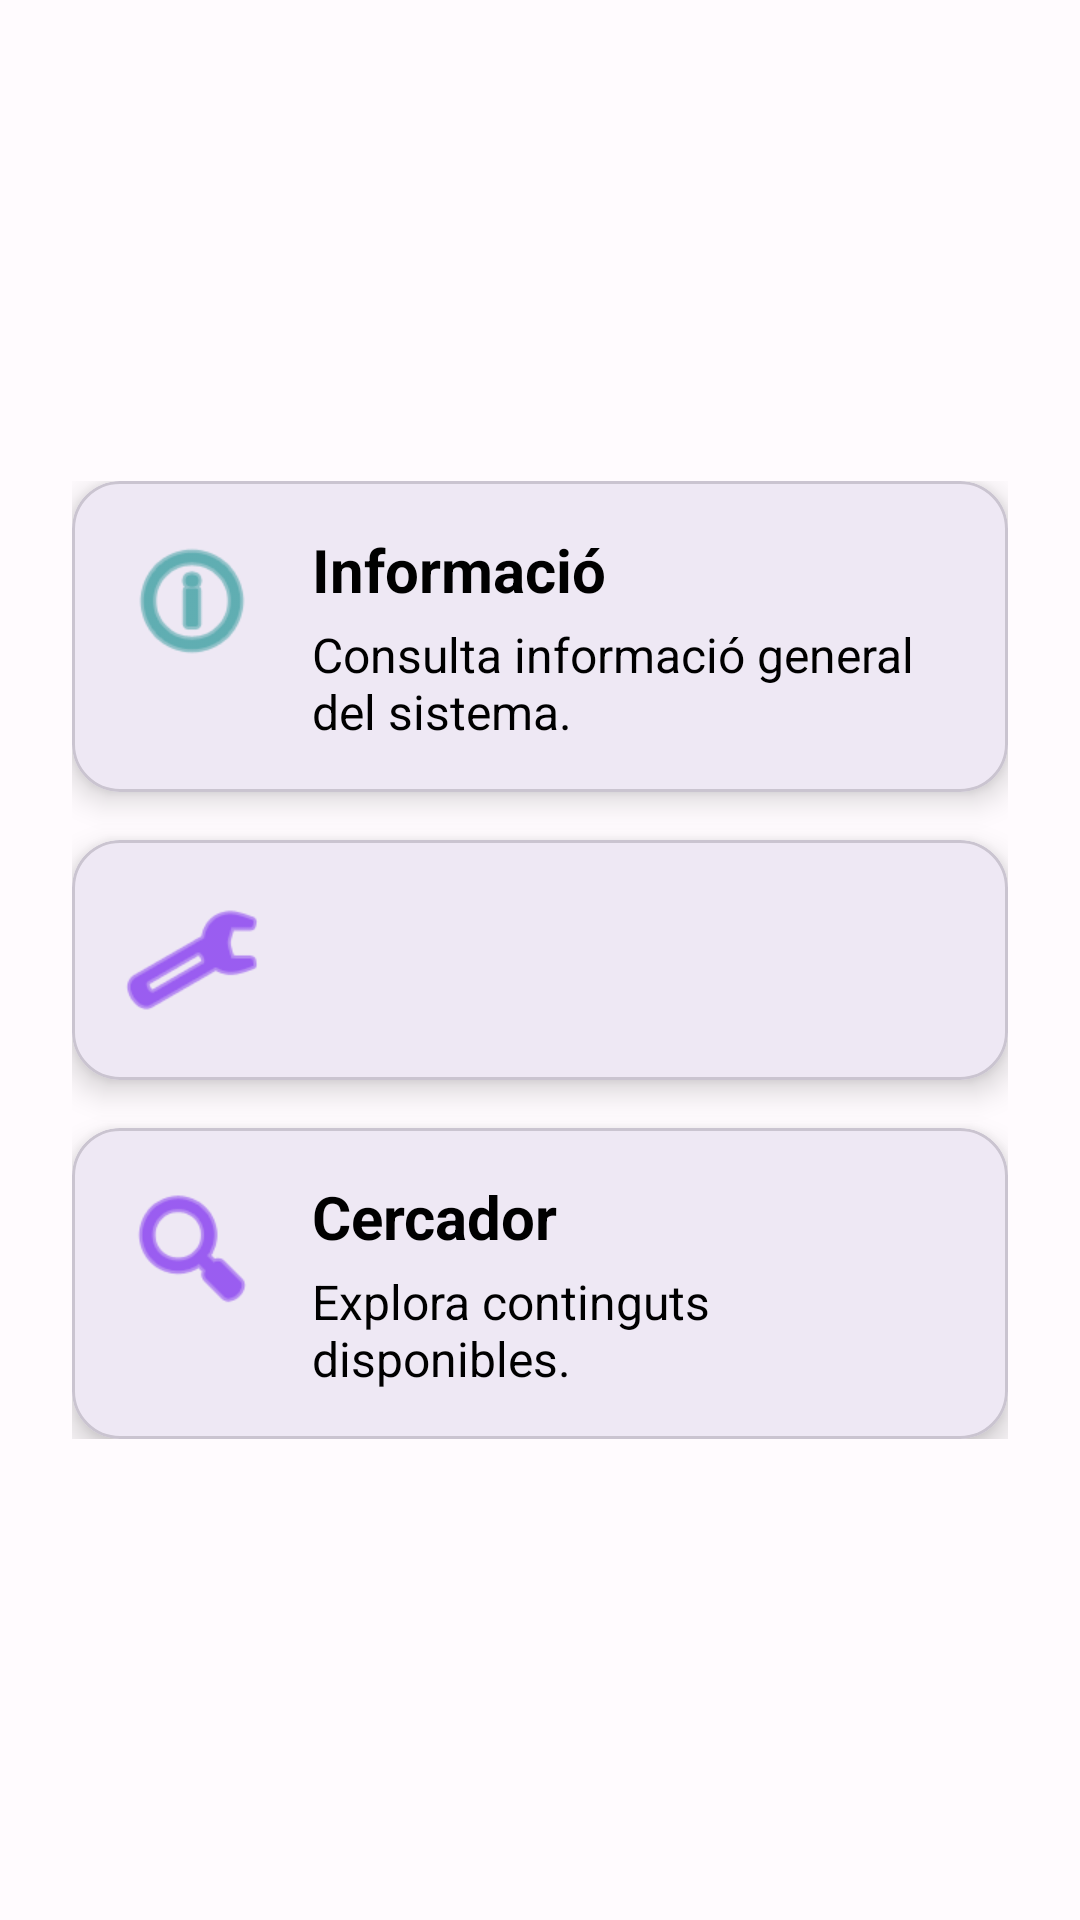

Screen size 1080w x 1920h. Icon name, then its center in pixels as point (x, y):
info details: point (192, 601)
manage: point (192, 960)
search: point (192, 1248)
